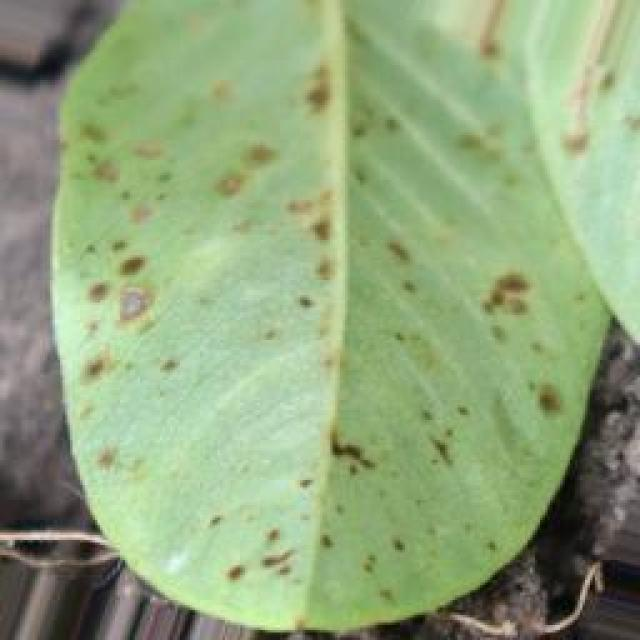Whitefly: (31, 0, 640, 574)
